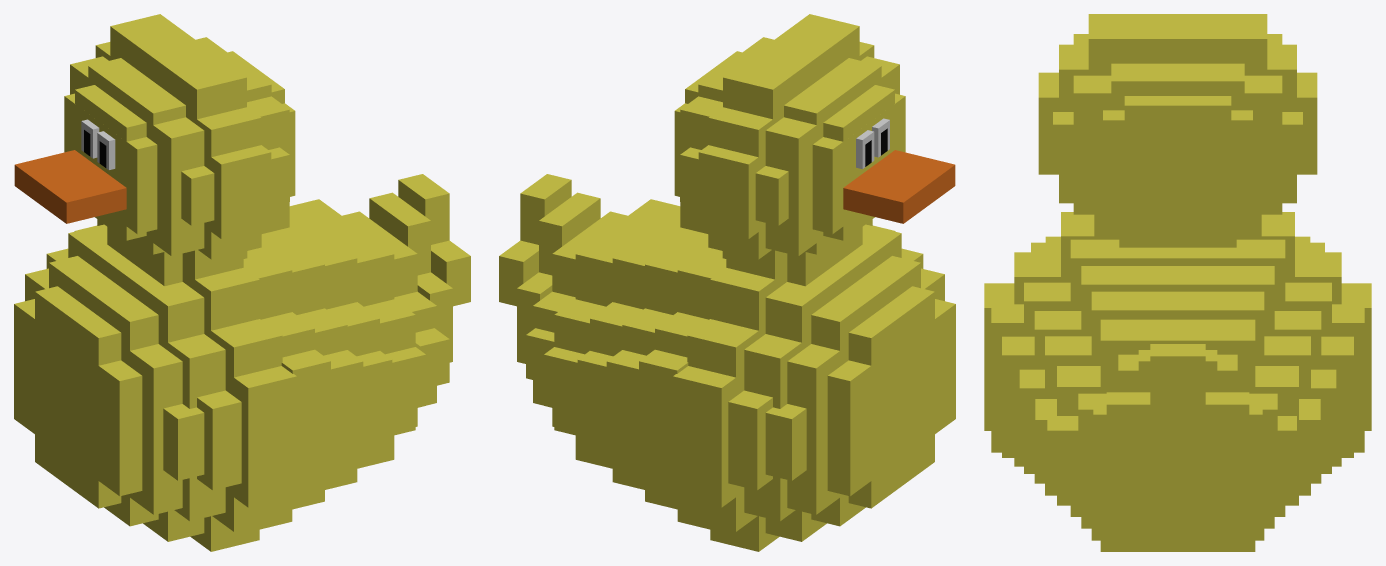
Rendered from Child_Duck.fbx.
3 views of the same model, side by side, from view 1: azimuth 30°, elevation 25°; view 2: azimuth 150°, elevation 25°; view 3: azimuth 270°, elevation 25° (orthographic). The views are drawn at different scales.
Visible parts, largest first — view 1: Child.001; view 2: Child.001; view 3: Child.001.
Boxes of the visible parts, x1,y1,x2,y2 form: Child.001: (14, 14, 470, 551); Child.001: (499, 14, 955, 551); Child.001: (984, 14, 1371, 551).
Size of the model in its own units: 316 by 345 by 260.
